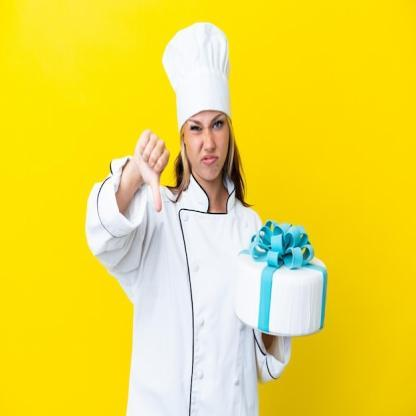thumb_down: (132, 126, 170, 216)
